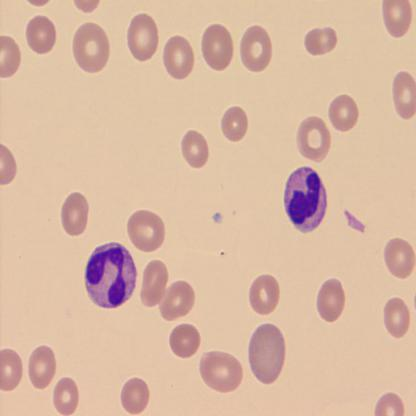Segmented neutrophil: (83, 238, 139, 310), (282, 164, 328, 235)
